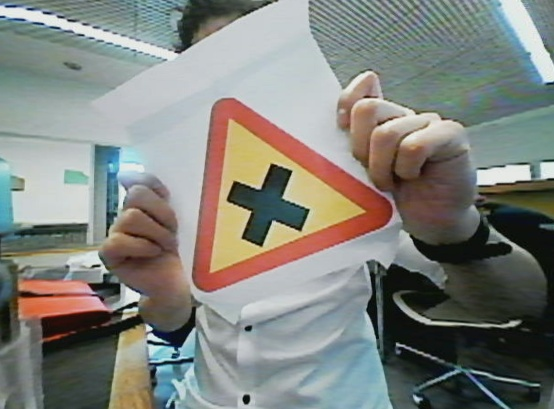junction: (176, 93, 394, 302)
